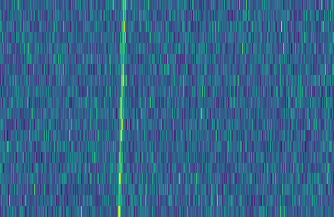signal: (112, 0, 127, 217)
